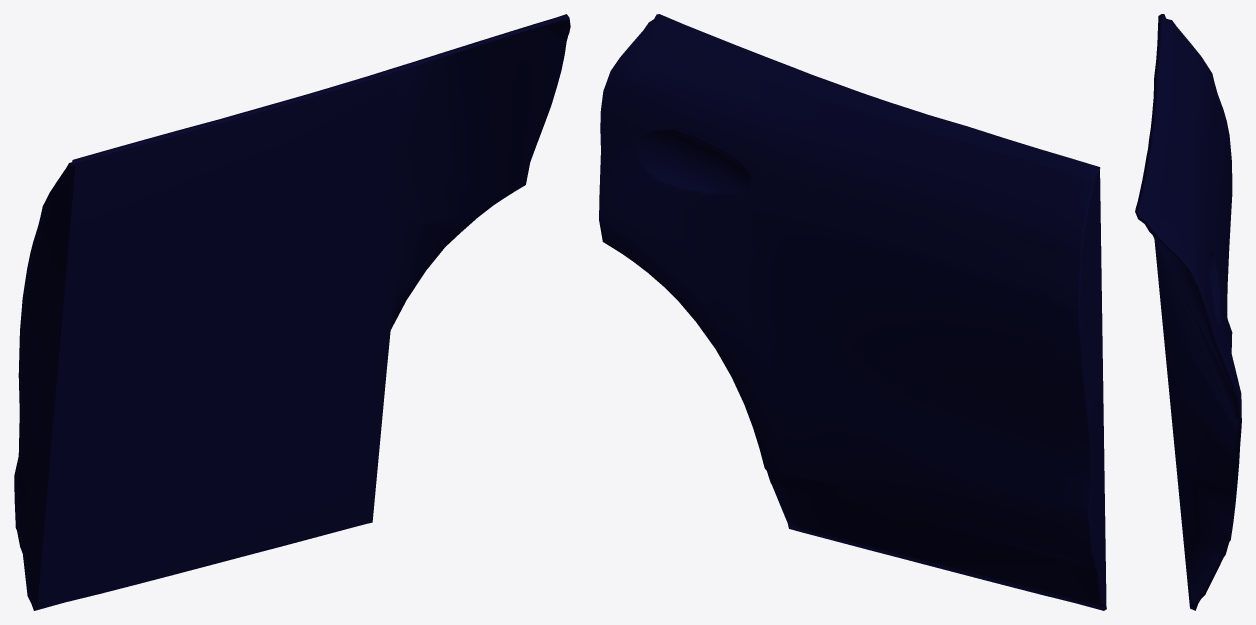
The model's file is SM_Car_MenR2.FBX.
The picture shows the model from 3 angles, left to right: view 1: azimuth 30°, elevation 25°; view 2: azimuth 150°, elevation 25°; view 3: azimuth 270°, elevation 25°; orthographic projection. The views are drawn at different scales.
Visible parts, largest first — view 1: polySurface3528; view 2: polySurface3528; view 3: polySurface3528.
Boxes of the visible parts, left/top/right/bottom form: polySurface3528: left=14, top=14, right=570, bottom=610; polySurface3528: left=599, top=14, right=1106, bottom=610; polySurface3528: left=1135, top=14, right=1241, bottom=610.
Size of the model in its own units: 109 by 96.08 by 19.05.
